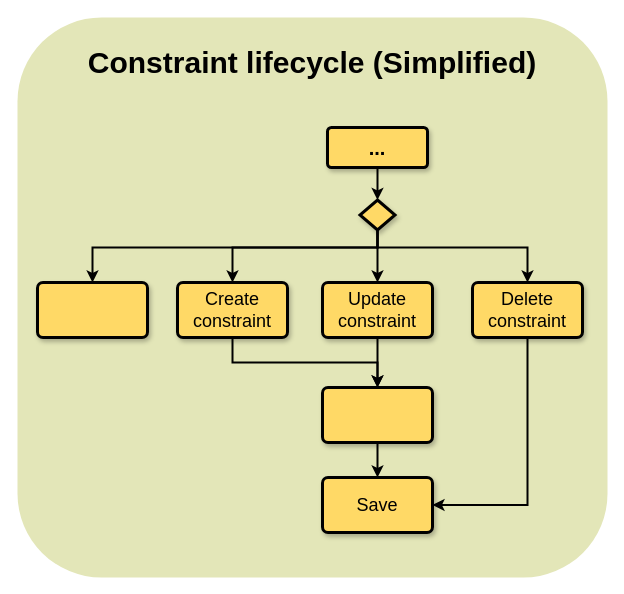
The diagram is 624 pixels wide and 594 high, and some of its shapes have lost their labels. The shapes that lost their labels are listed below. From the top down, each one's centre as x and y in pixels, then its label:
[93,311]: Read constraint
[378,416]: Validate syntax
